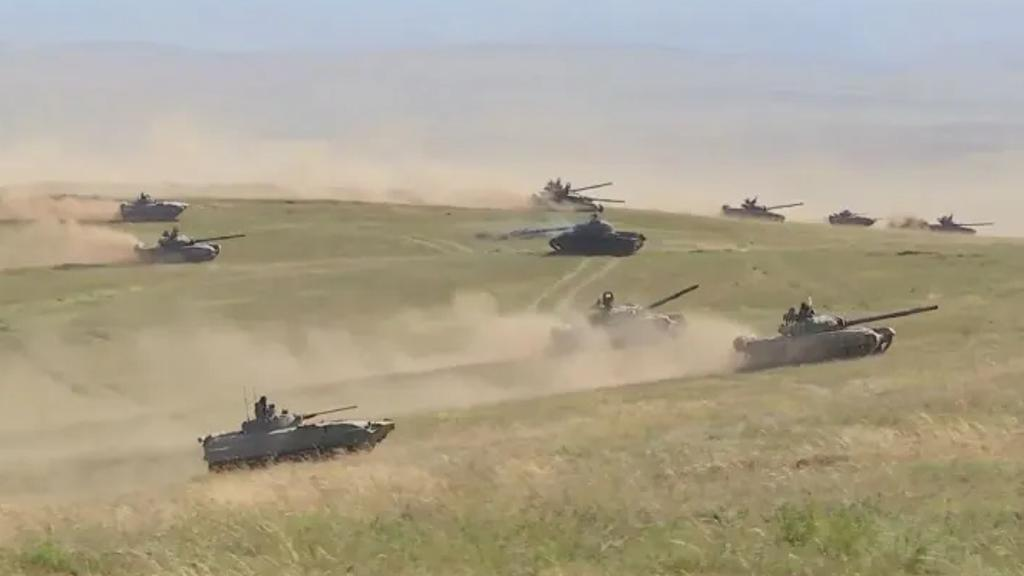APC-IFV: (199, 390, 397, 470), (120, 193, 189, 220), (826, 205, 881, 231)
TANK: (731, 296, 940, 368), (550, 280, 706, 359), (508, 214, 647, 258), (133, 228, 247, 264), (534, 179, 626, 213), (723, 196, 807, 226), (926, 213, 993, 239)
